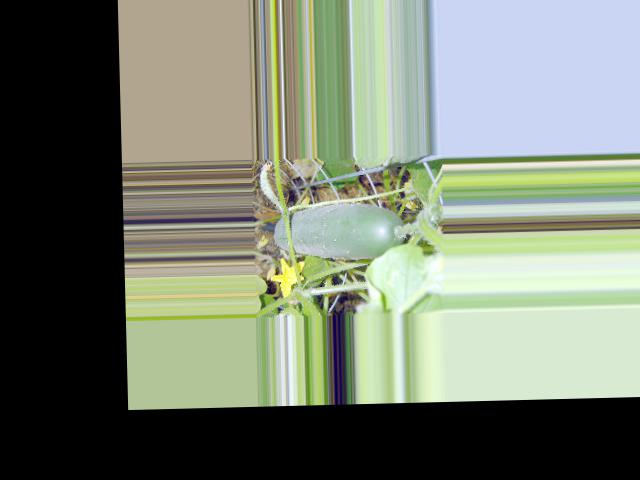cucumber: (274, 200, 405, 261)
